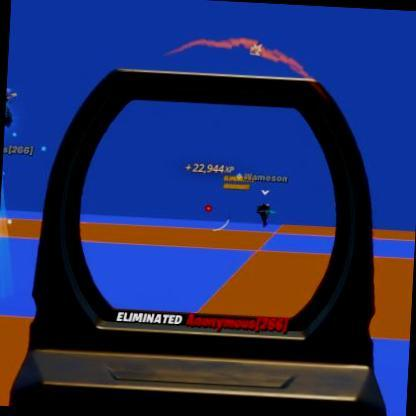person: (256, 200, 270, 228)
